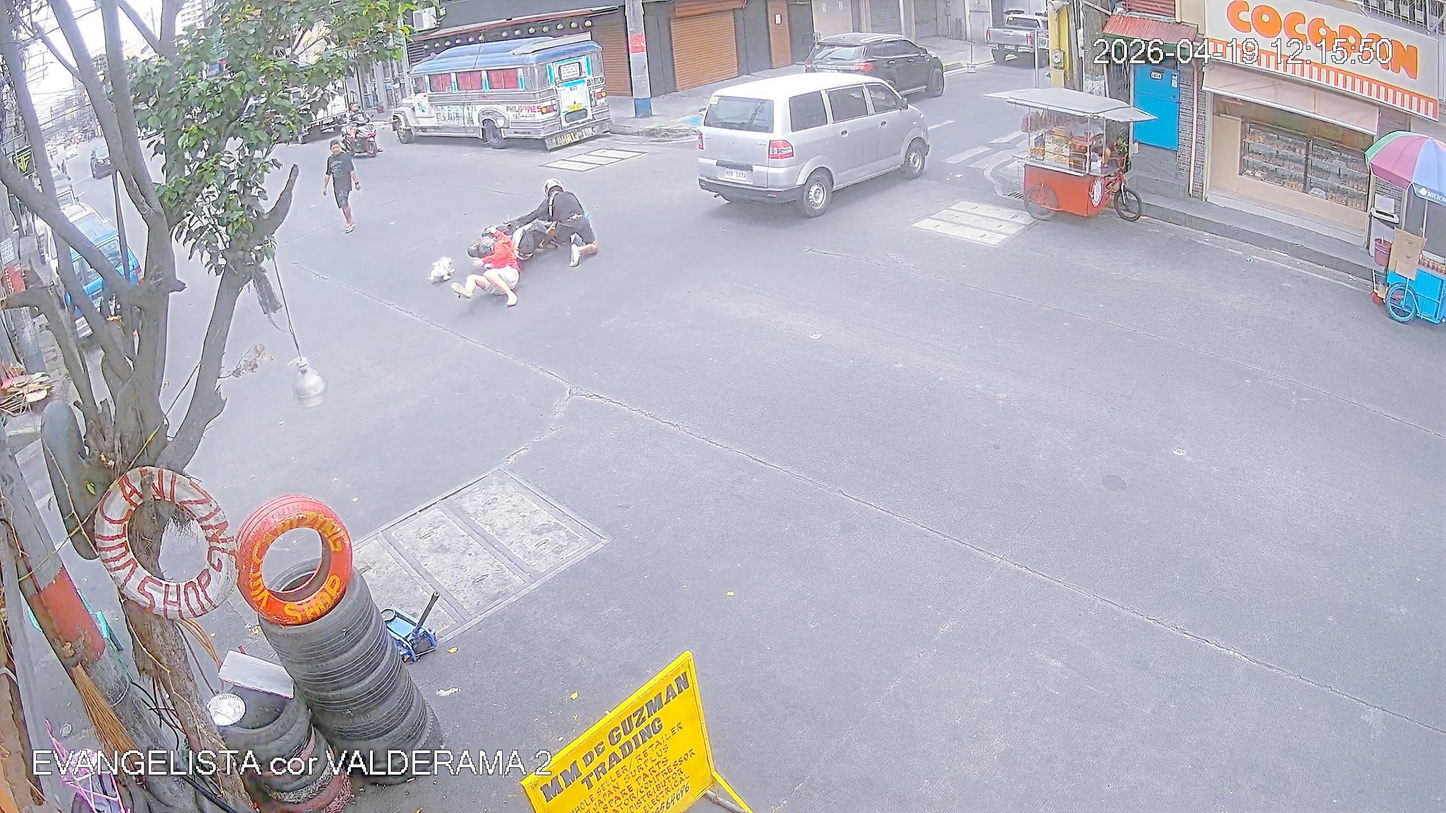Car: (699, 76, 933, 206), (819, 27, 943, 100)
Motor: (461, 203, 593, 279), (340, 101, 378, 157)
